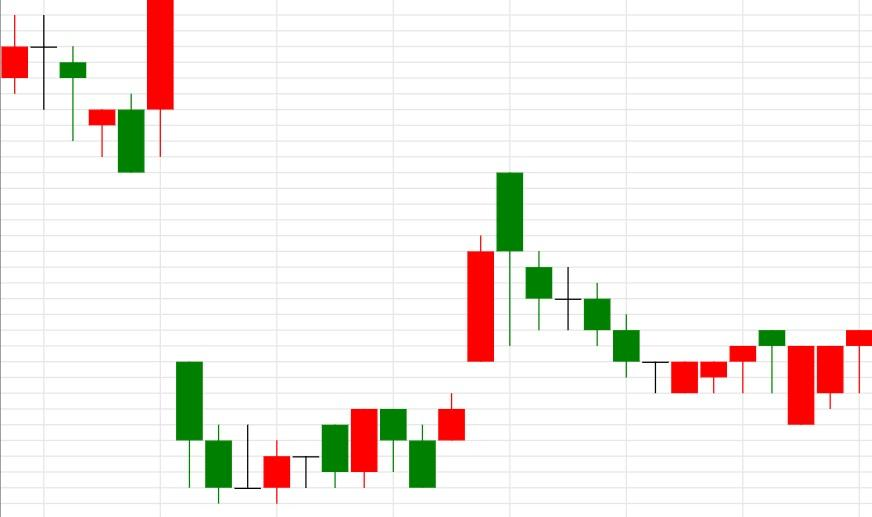hanging_man_fall: (670, 330, 786, 394)
morning_star_rise: (146, 0, 291, 504)
